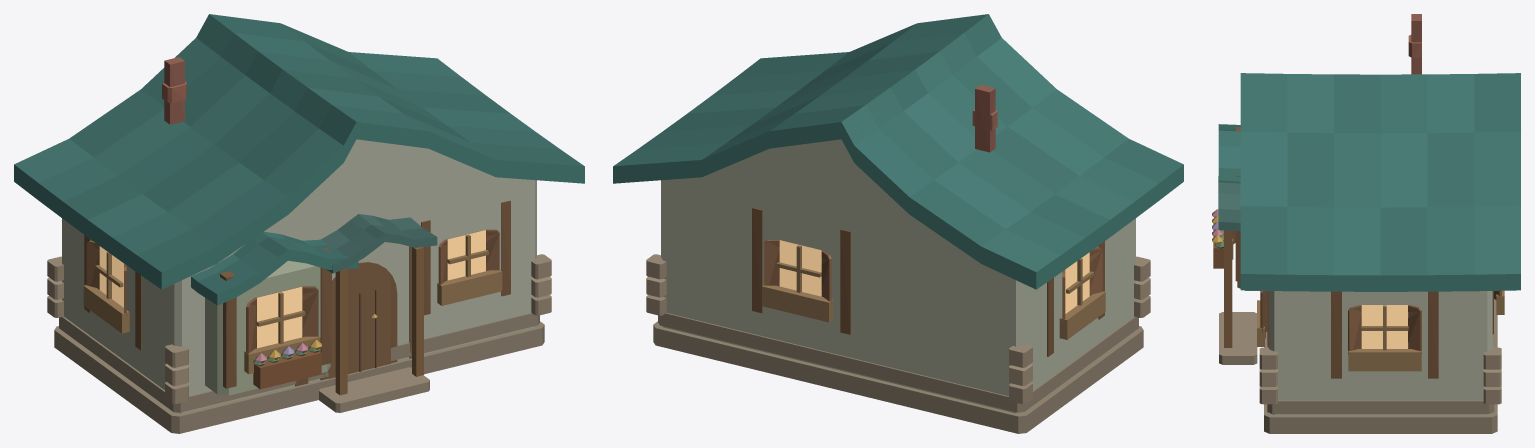
Rendered from moss-corner-cottage.glb.
The picture shows the model from 3 angles, left to right: view 1: azimuth 30°, elevation 25°; view 2: azimuth 150°, elevation 25°; view 3: azimuth 270°, elevation 25°; orthographic projection. The views are drawn at different scales.
Parts seen in each view (by area): view 1: mooswinkel; view 2: mooswinkel; view 3: mooswinkel.
Part boxes in pixels (box(x1,y1,x2,y2)): mooswinkel: box(14, 14, 584, 433); mooswinkel: box(613, 14, 1183, 433); mooswinkel: box(1212, 14, 1520, 433).
Size of the model in its own units: 5.6 by 3.74 by 3.72.
